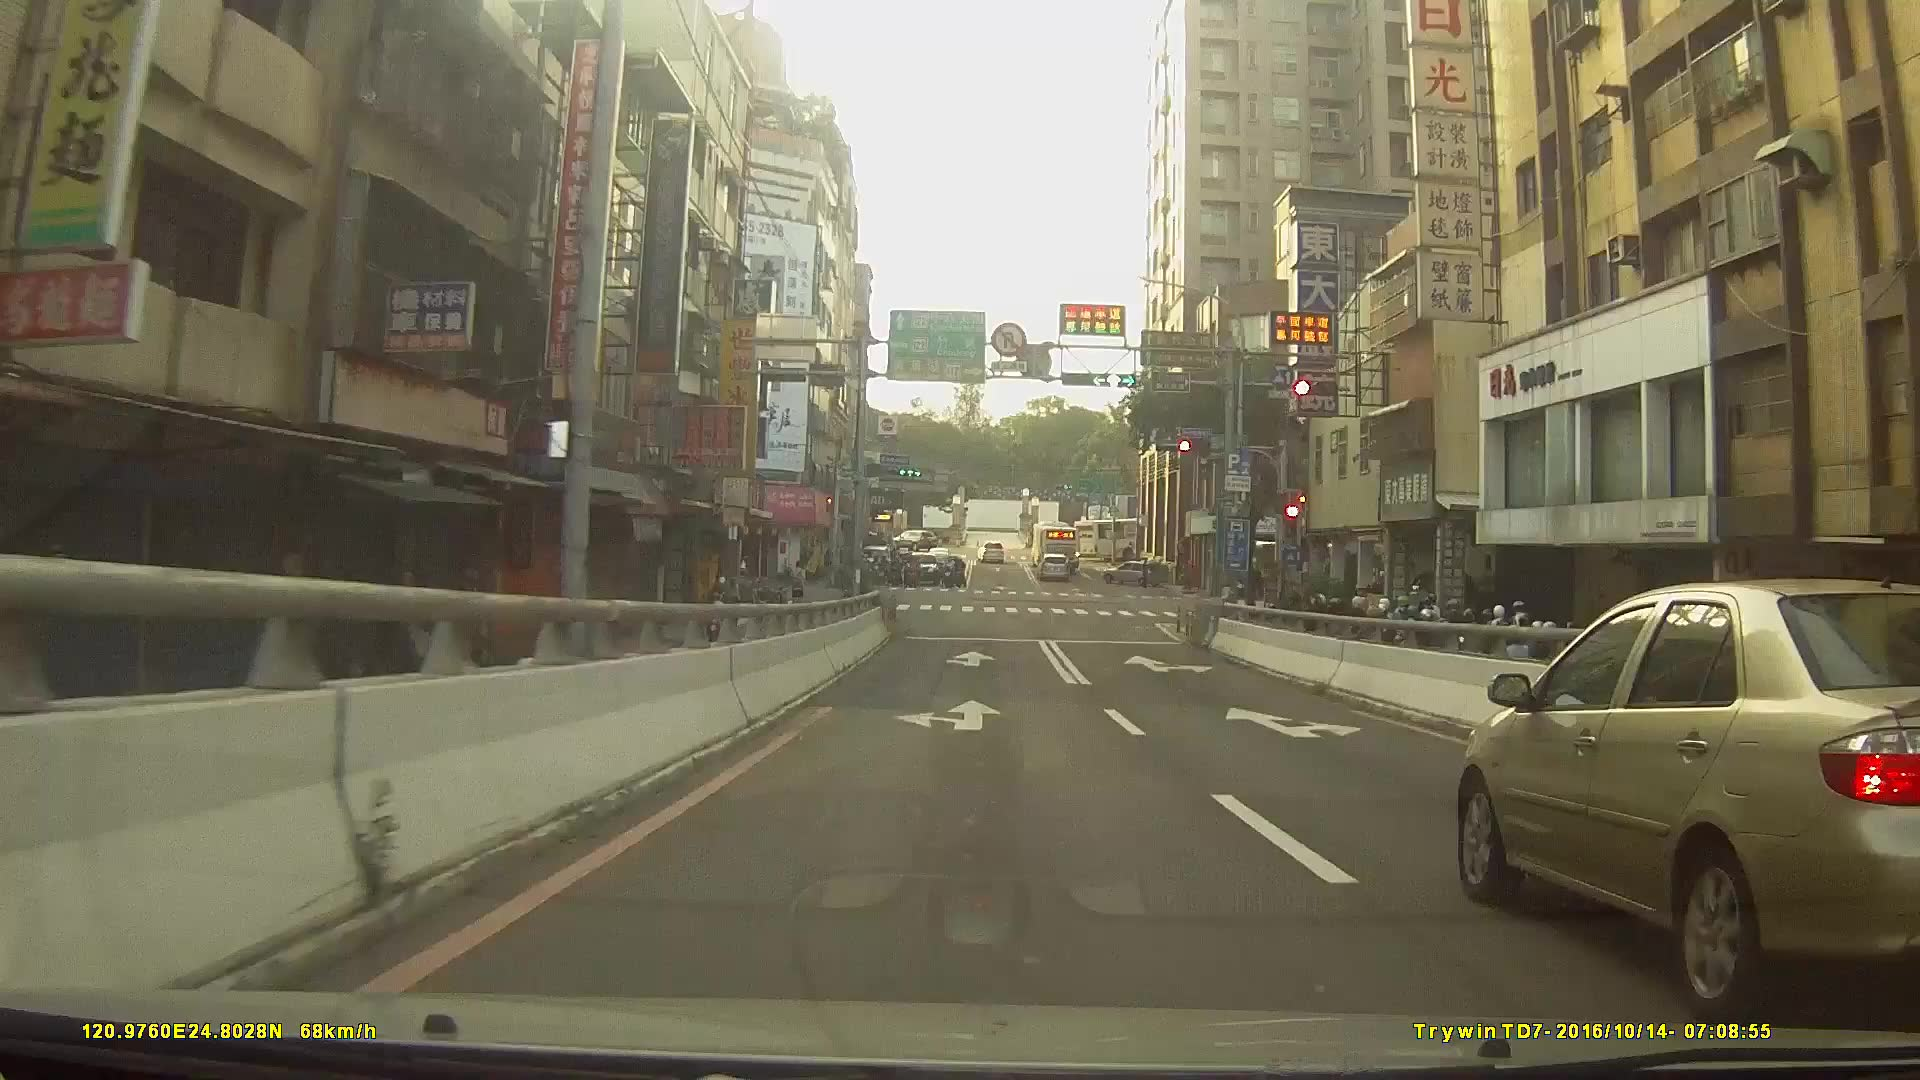rider: (703, 575, 748, 651)
vehicle: (1457, 578, 1920, 1021), (1073, 516, 1164, 563), (1031, 519, 1079, 567), (1100, 559, 1169, 587), (901, 551, 942, 586), (887, 527, 940, 550), (1035, 553, 1071, 580), (978, 540, 1005, 563)
